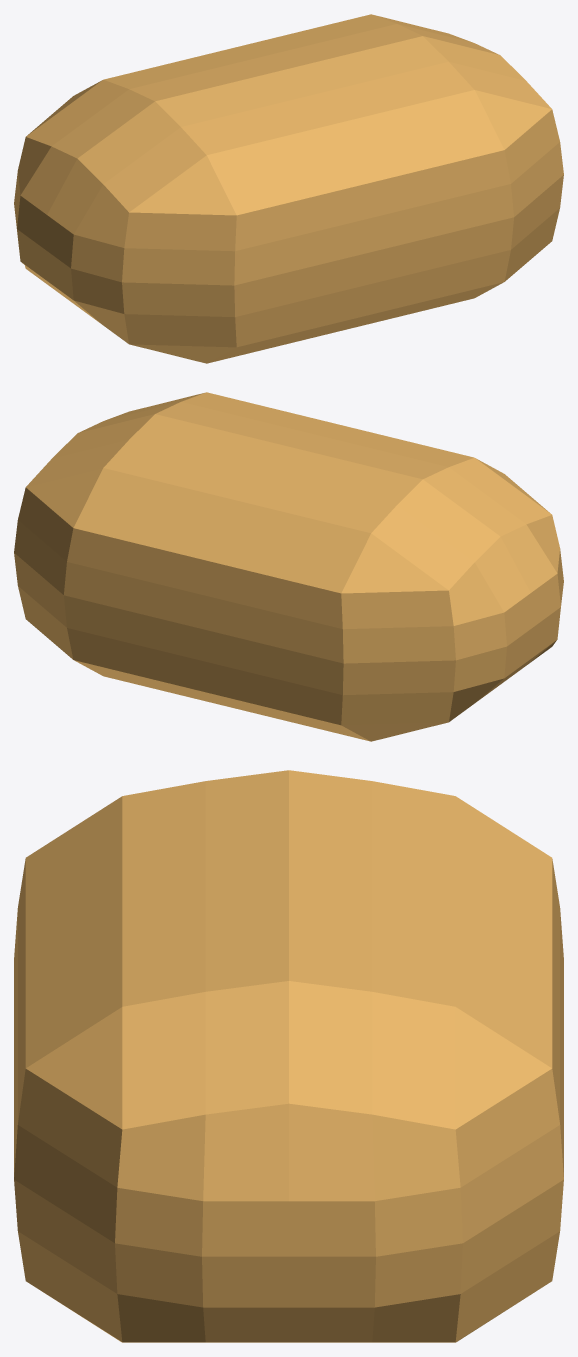
The model's file is ekmek.fbx.
The picture shows the model from 3 angles, top to bottom: view 1: azimuth 30°, elevation 25°; view 2: azimuth 150°, elevation 25°; view 3: azimuth 270°, elevation 25°; orthographic projection. The views are drawn at different scales.
Parts seen in each view (by area): view 1: Cube.063; view 2: Cube.063; view 3: Cube.063.
Part boxes in pixels (bbox=[...]): Cube.063: bbox=[14, 14, 563, 363]; Cube.063: bbox=[14, 392, 563, 741]; Cube.063: bbox=[14, 770, 563, 1342].
Bounding box in the file's own units: 228 × 101 × 140.
Materials: 1 (1 with a texture image).
